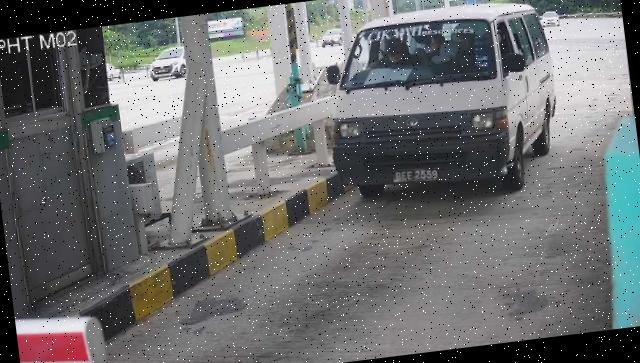License_Plate: (391, 162, 443, 190)
van: (317, 1, 568, 211)
